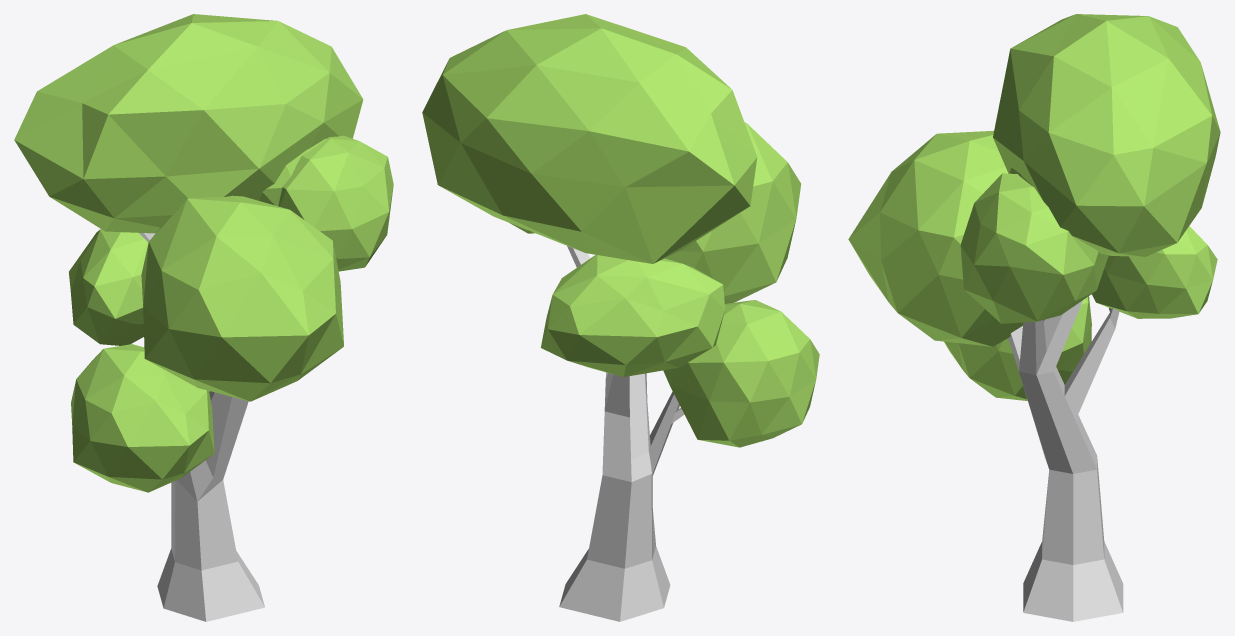
File: tree1.fbx
3 views of the same model, side by side, from view 1: azimuth 30°, elevation 25°; view 2: azimuth 150°, elevation 25°; view 3: azimuth 270°, elevation 25° (orthographic). The views are drawn at different scales.
Visible parts, largest first — view 1: tree1; view 2: tree1; view 3: tree1.
Boxes of the visible parts, box(x1,y1,x2,y2) form: tree1: box(14, 14, 393, 621); tree1: box(422, 14, 819, 621); tree1: box(848, 14, 1220, 621).
Bounding box in the file's own units: 754 × 1271 × 745.
